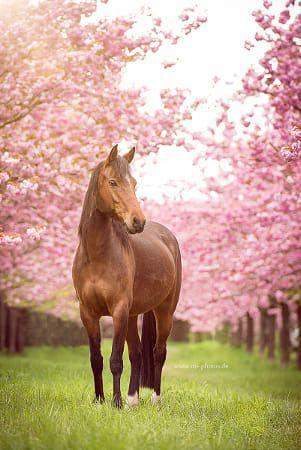horse: (71, 143, 182, 409)
